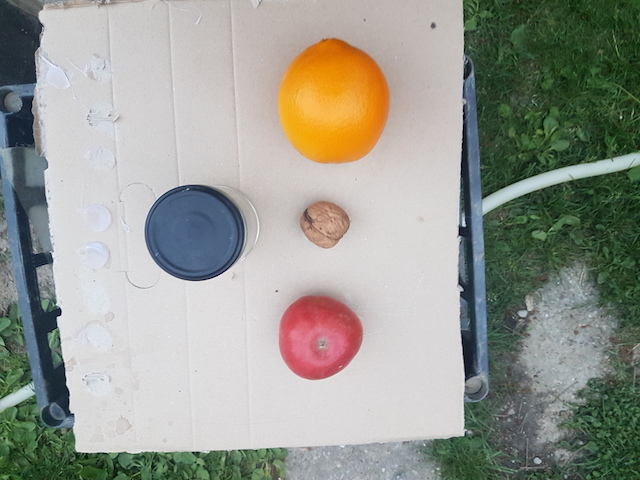apple: (270, 294, 365, 381)
nut: (294, 200, 353, 253)
orange: (275, 35, 389, 167)
recipient: (141, 185, 244, 288)
